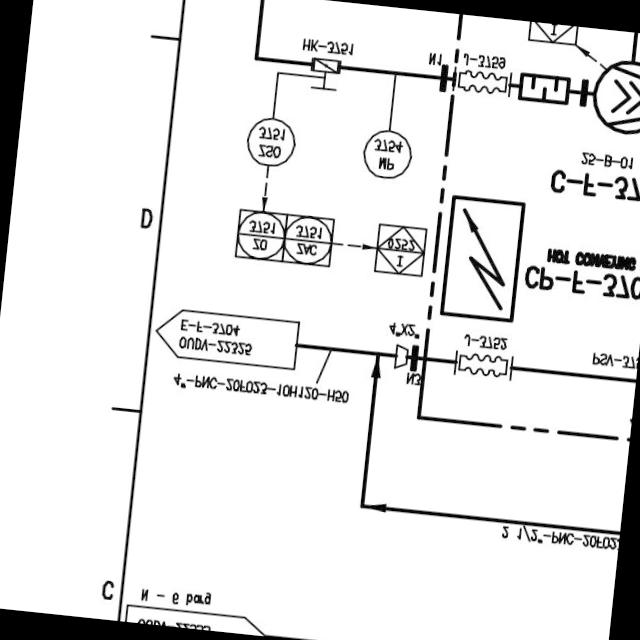BV: (304, 51, 344, 94)
C: (585, 55, 640, 139)
EJ: (446, 344, 518, 385), (447, 63, 513, 97)
SP: (388, 340, 409, 373)
